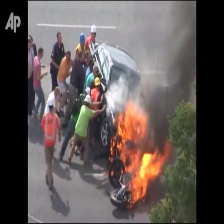fire_h: (116, 101, 172, 205)
fire_l: (108, 137, 116, 161), (110, 169, 113, 175), (120, 167, 123, 173)
